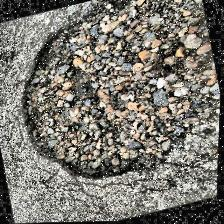pothole: (0, 1, 188, 197)
